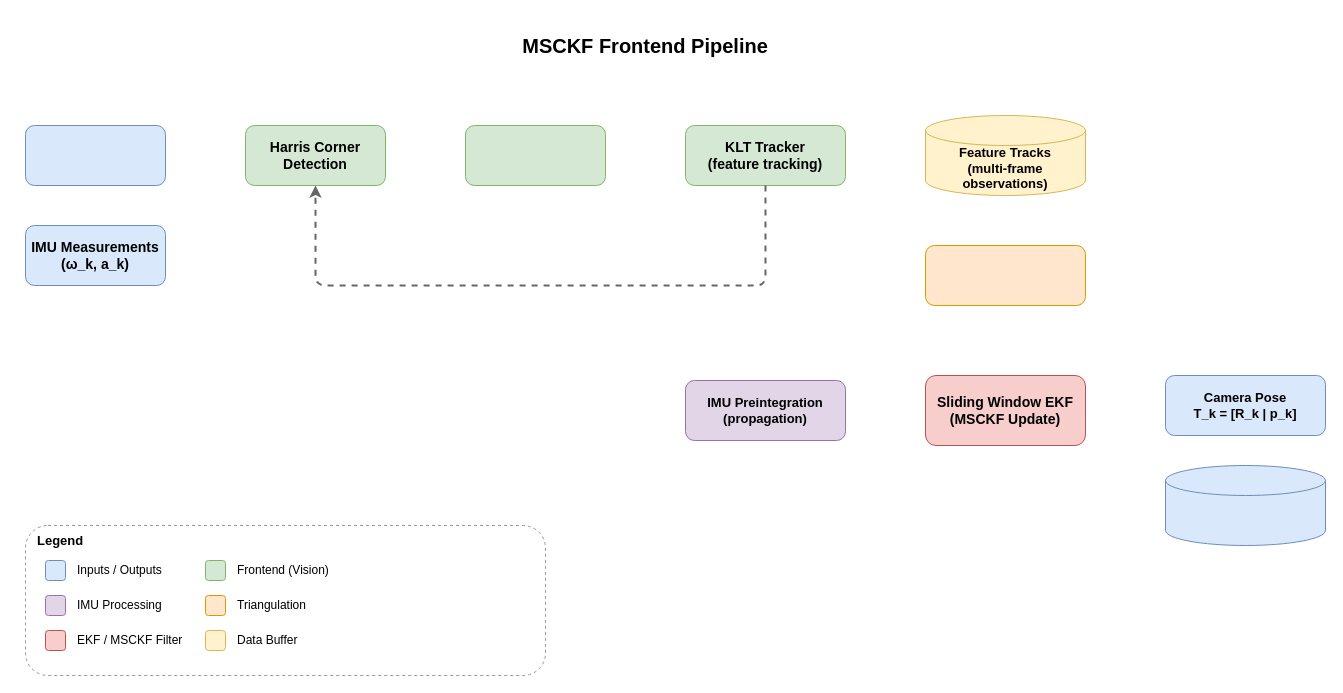
Image size: 1343x693. Some labels were removed from this diagram. The shapes that lost their labels are listed below. From the top down, each one's centre as x and y in pixels, then its label:
At [95,155]: "Camera Image I_k".
At [535,155]: "LK Optical Flow Tracking".
At [1005,275]: "MSCKF Feature Triangulation".
At [1245,505]: "Map Points (3D landmarks)".
